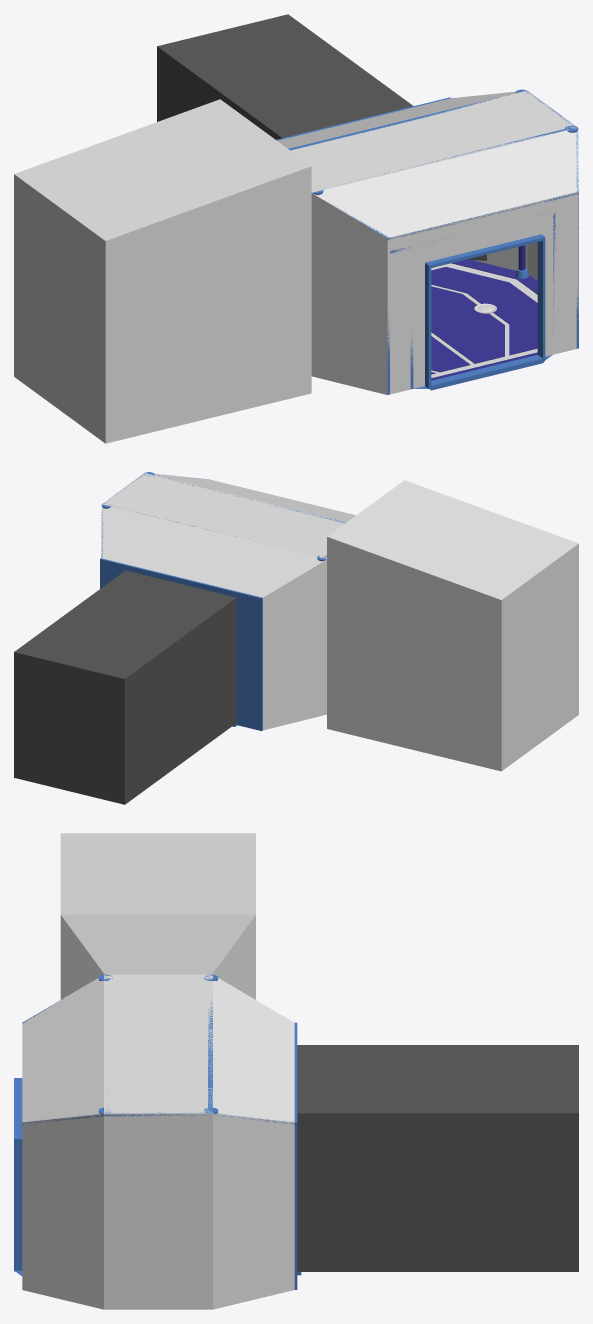
The model's file is DropOffArea.fbx.
3 renders of one model, top to bottom at view 1: azimuth 30°, elevation 25°; view 2: azimuth 150°, elevation 25°; view 3: azimuth 270°, elevation 25°, orthographic. The views are drawn at different scales.
Parts seen in each view (by area): view 1: Cube.001; view 2: Cube.001; view 3: Cube.001.
Part boxes in pixels (x1,y1,x2,y2): Cube.001: [14, 14, 578, 443]; Cube.001: [14, 472, 578, 804]; Cube.001: [14, 833, 578, 1309].
Bounding box in the file's own units: 2233 × 1005 × 2074.
